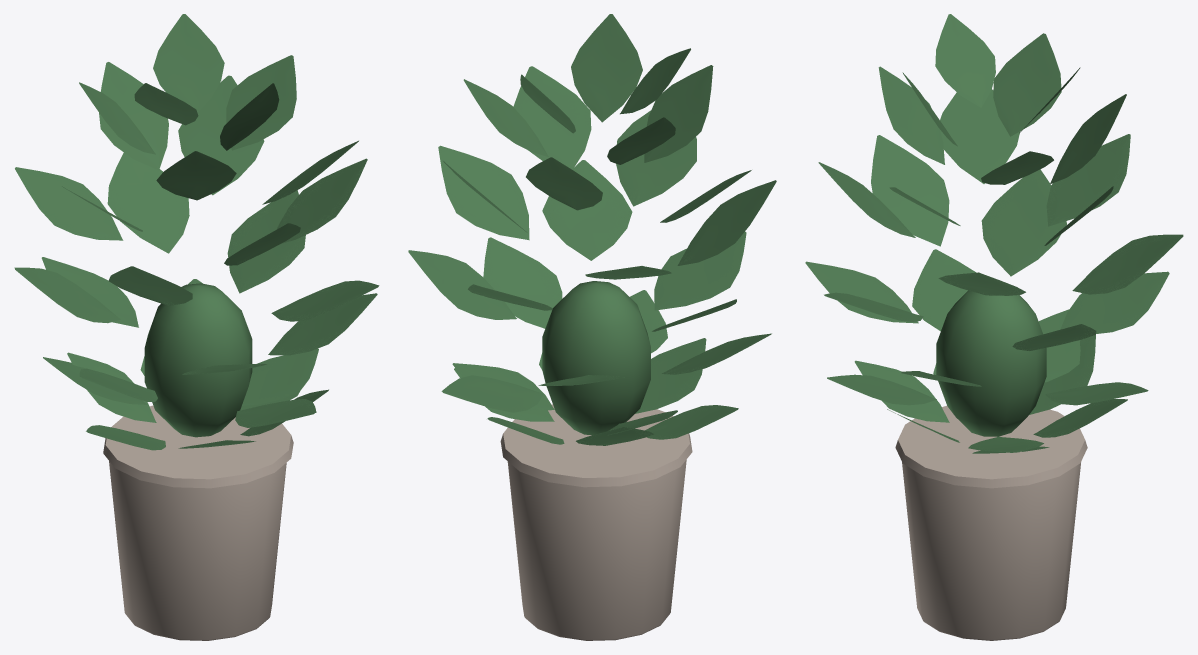
Rendered from floor-plant-a.glb.
The picture shows the model from 3 angles, left to right: view 1: azimuth 30°, elevation 25°; view 2: azimuth 150°, elevation 25°; view 3: azimuth 270°, elevation 25°; orthographic projection.
Parts seen in each view (by area): view 1: floor-plant-a; view 2: floor-plant-a; view 3: floor-plant-a.
Part boxes in pixels (x1,y1,x2,y2): floor-plant-a: (14,14,379,640); floor-plant-a: (408,14,776,640); floor-plant-a: (805,14,1183,640).
Size of the model in its own units: 0.5957 by 0.985 by 0.6024.
